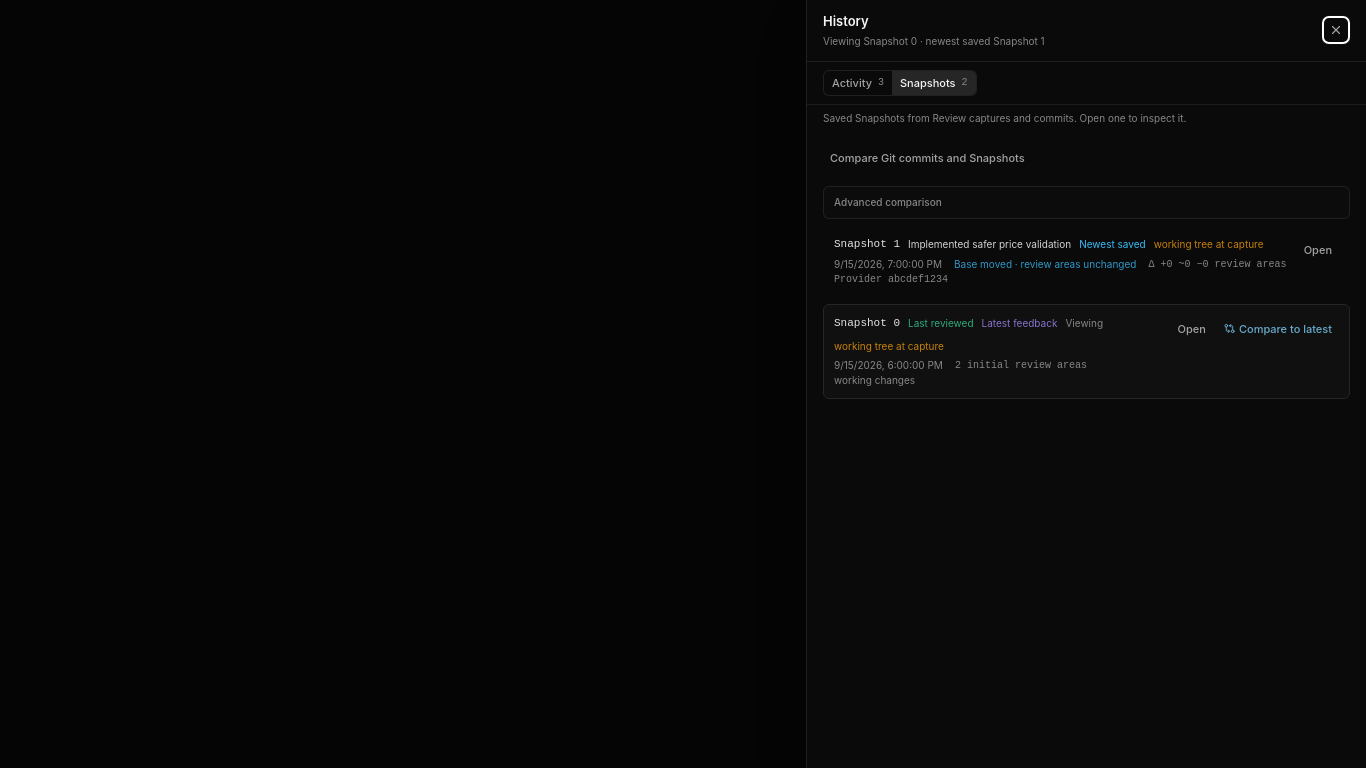
ReviewHistorySheet › keeps quick and arbitrary revision comparison inside history
Click the heading "Advanced comparison": (888, 202) [834,196,942,208]
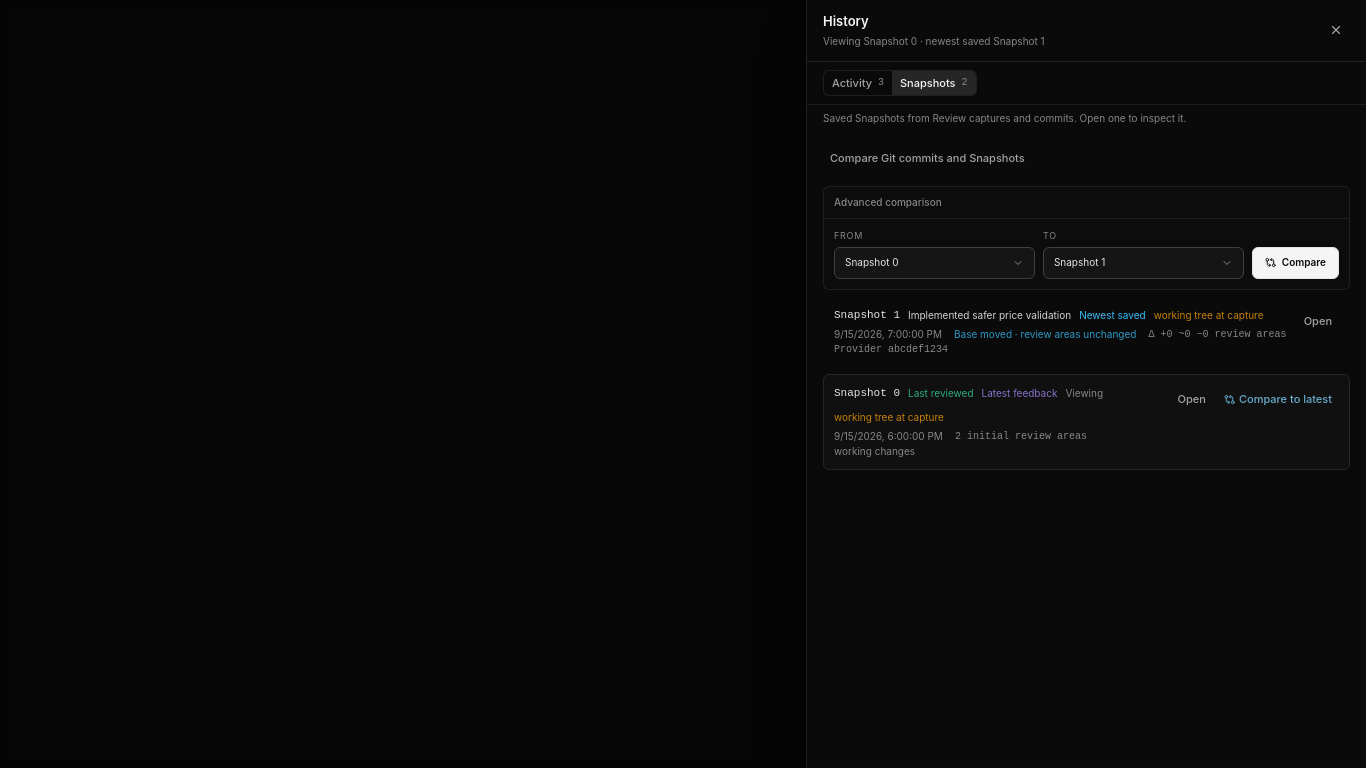
Result: the dropdown named "Compare from Snapshot" is shown at [834,247,1035,279]
Result: the dropdown named "Compare to Snapshot" is shown at [1043,247,1244,279]
